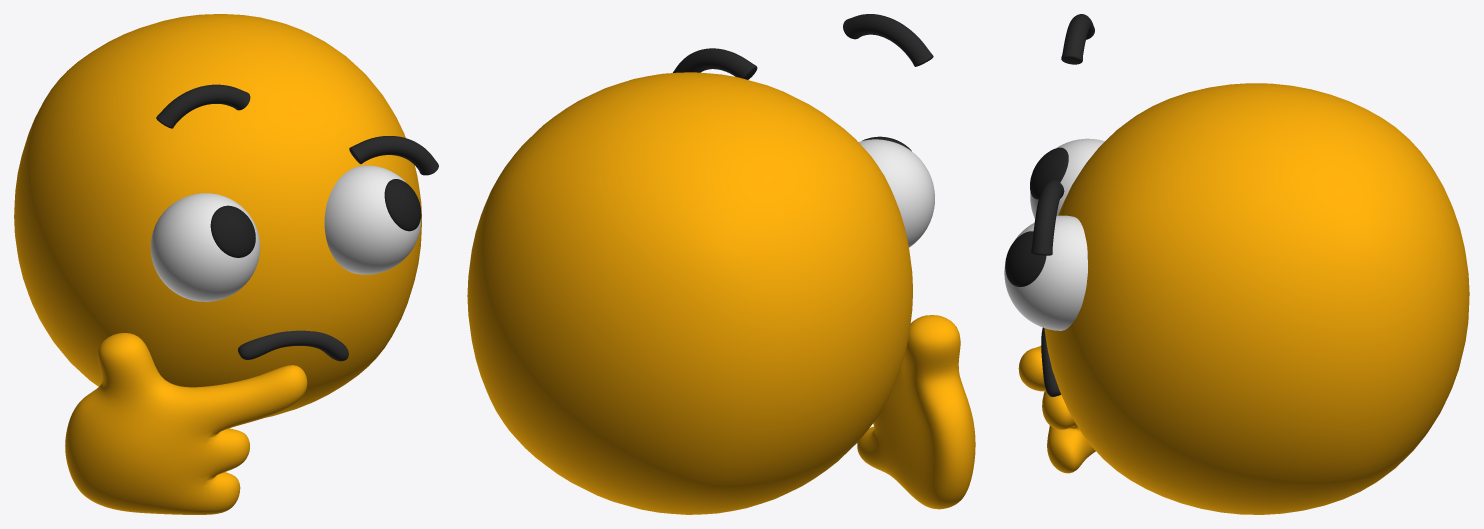
The model's file is thinking-emoji-animated-3d-icon-66539544752.glb.
3 renders of one model, left to right at view 1: azimuth 30°, elevation 25°; view 2: azimuth 150°, elevation 25°; view 3: azimuth 270°, elevation 25°, orthographic. The views are drawn at different scales.
Visible parts, largest first — view 1: Cube.013, Cube.014, Sphere.005, Sphere.007, Circle.004, Circle.003, Sphere.006, Circle.002, Sphere.008; view 2: Cube.013, Cube.014, Sphere.005, Circle.003, Circle.002; view 3: Cube.013, Sphere.007, Cube.014, Circle.002, Sphere.008, Sphere.005, Sphere.006, Circle.003, Circle.004.
Part boxes in pixels (x1=…): Cube.013: x1=14, y1=14, x2=421, y2=417; Cube.014: x1=65, y1=333, x2=307, y2=514; Sphere.005: x1=150, y1=193, x2=260, y2=301; Sphere.007: x1=324, y1=165, x2=421, y2=274; Circle.004: x1=238, y1=330, x2=348, y2=361; Circle.003: x1=156, y1=84, x2=250, y2=128; Sphere.006: x1=210, y1=205, x2=255, y2=257; Circle.002: x1=349, y1=136, x2=438, y2=175; Sphere.008: x1=384, y1=179, x2=421, y2=231; Cube.013: x1=467, y1=72, x2=912, y2=514; Cube.014: x1=857, y1=315, x2=975, y2=509; Sphere.005: x1=858, y1=139, x2=934, y2=247; Circle.003: x1=843, y1=14, x2=933, y2=66; Circle.002: x1=673, y1=48, x2=757, y2=79; Cube.013: x1=1044, y1=83, x2=1469, y2=514; Sphere.007: x1=1004, y1=215, x2=1087, y2=330; Cube.014: x1=1018, y1=345, x2=1095, y2=473; Circle.002: x1=1031, y1=180, x2=1064, y2=255; Sphere.008: x1=1005, y1=231, x2=1046, y2=286; Sphere.005: x1=1030, y1=138, x2=1104, y2=218; Sphere.006: x1=1030, y1=147, x2=1068, y2=199; Circle.003: x1=1061, y1=14, x2=1094, y2=64; Circle.004: x1=1041, y1=327, x2=1060, y2=396.
Size of what is drawn, in the model's own units: 1.74 by 1.85 by 1.75.
